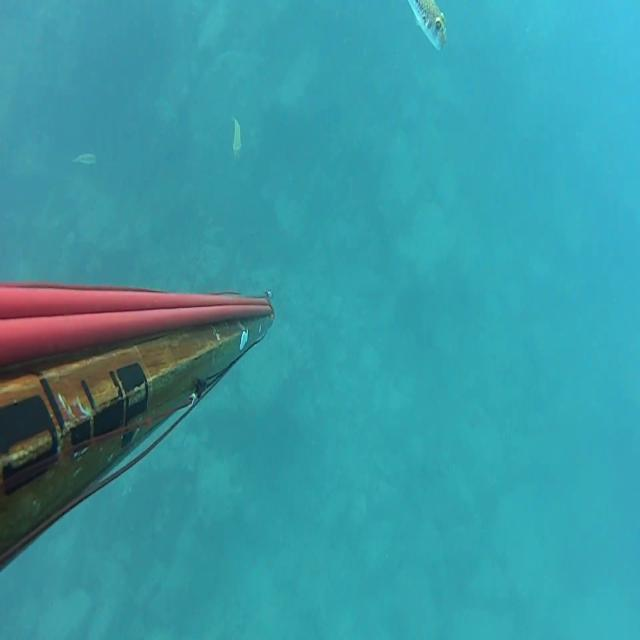Balon Baligi: (408, 0, 448, 51), (232, 116, 242, 161), (73, 154, 96, 164)
